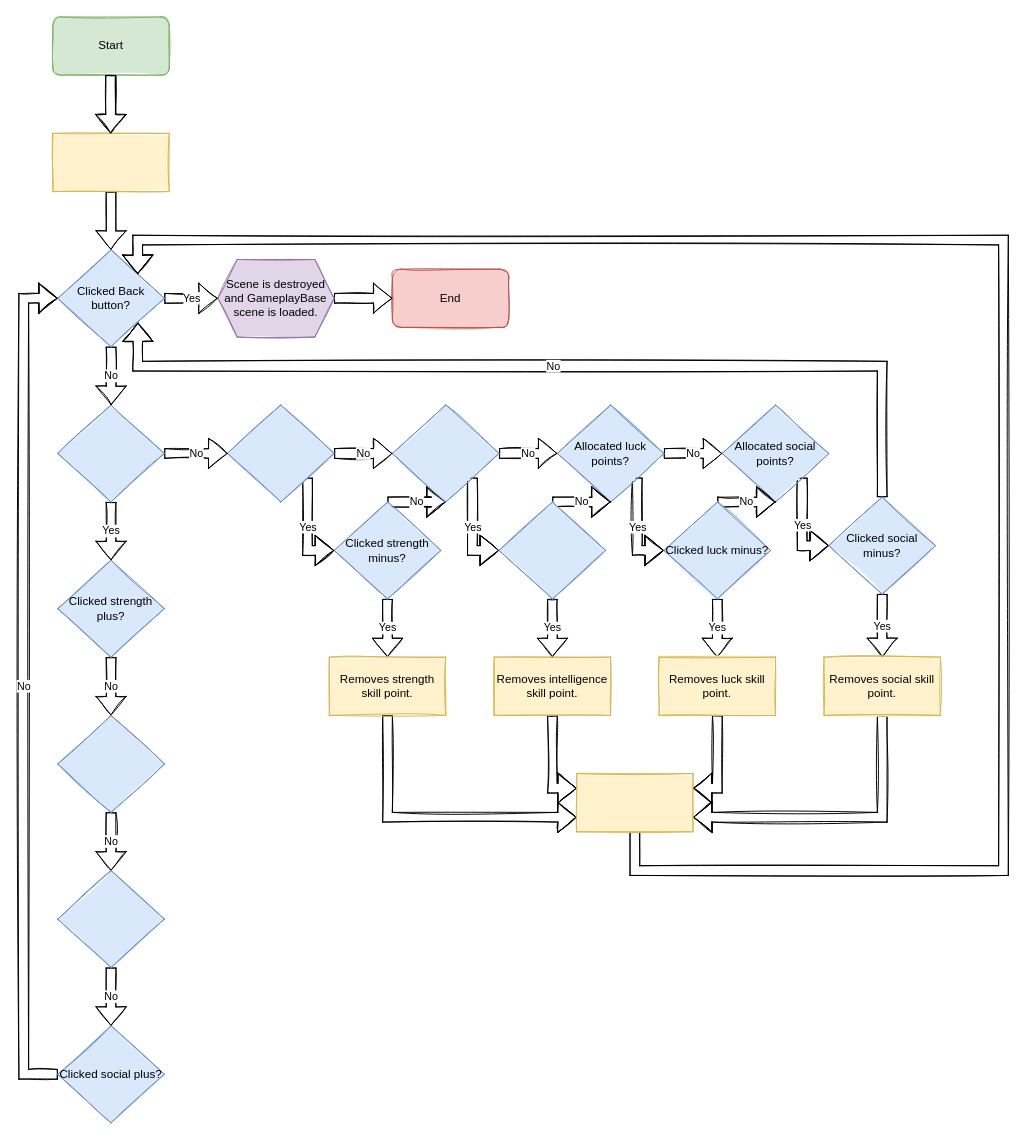
This 1026x1140 diagram has some shape labels left out. The shapes that lost their labels are listed below. From the top down, each one's centre as x and y in pixels, then its label:
At (x=110, y=162): "Skill points load with current allocations and total free points displayed.".
At (x=110, y=453): "Has skill points?".
At (x=280, y=453): "Allocated strength points?".
At (x=445, y=453): "Allocated intelligence points?".
At (x=552, y=550): "Clicked intelligence minus?".
At (x=110, y=763): "Clicked intelligence plus?".
At (x=634, y=802): "Add free skill point to total.".
At (x=110, y=919): "Clicked luck plus?".
